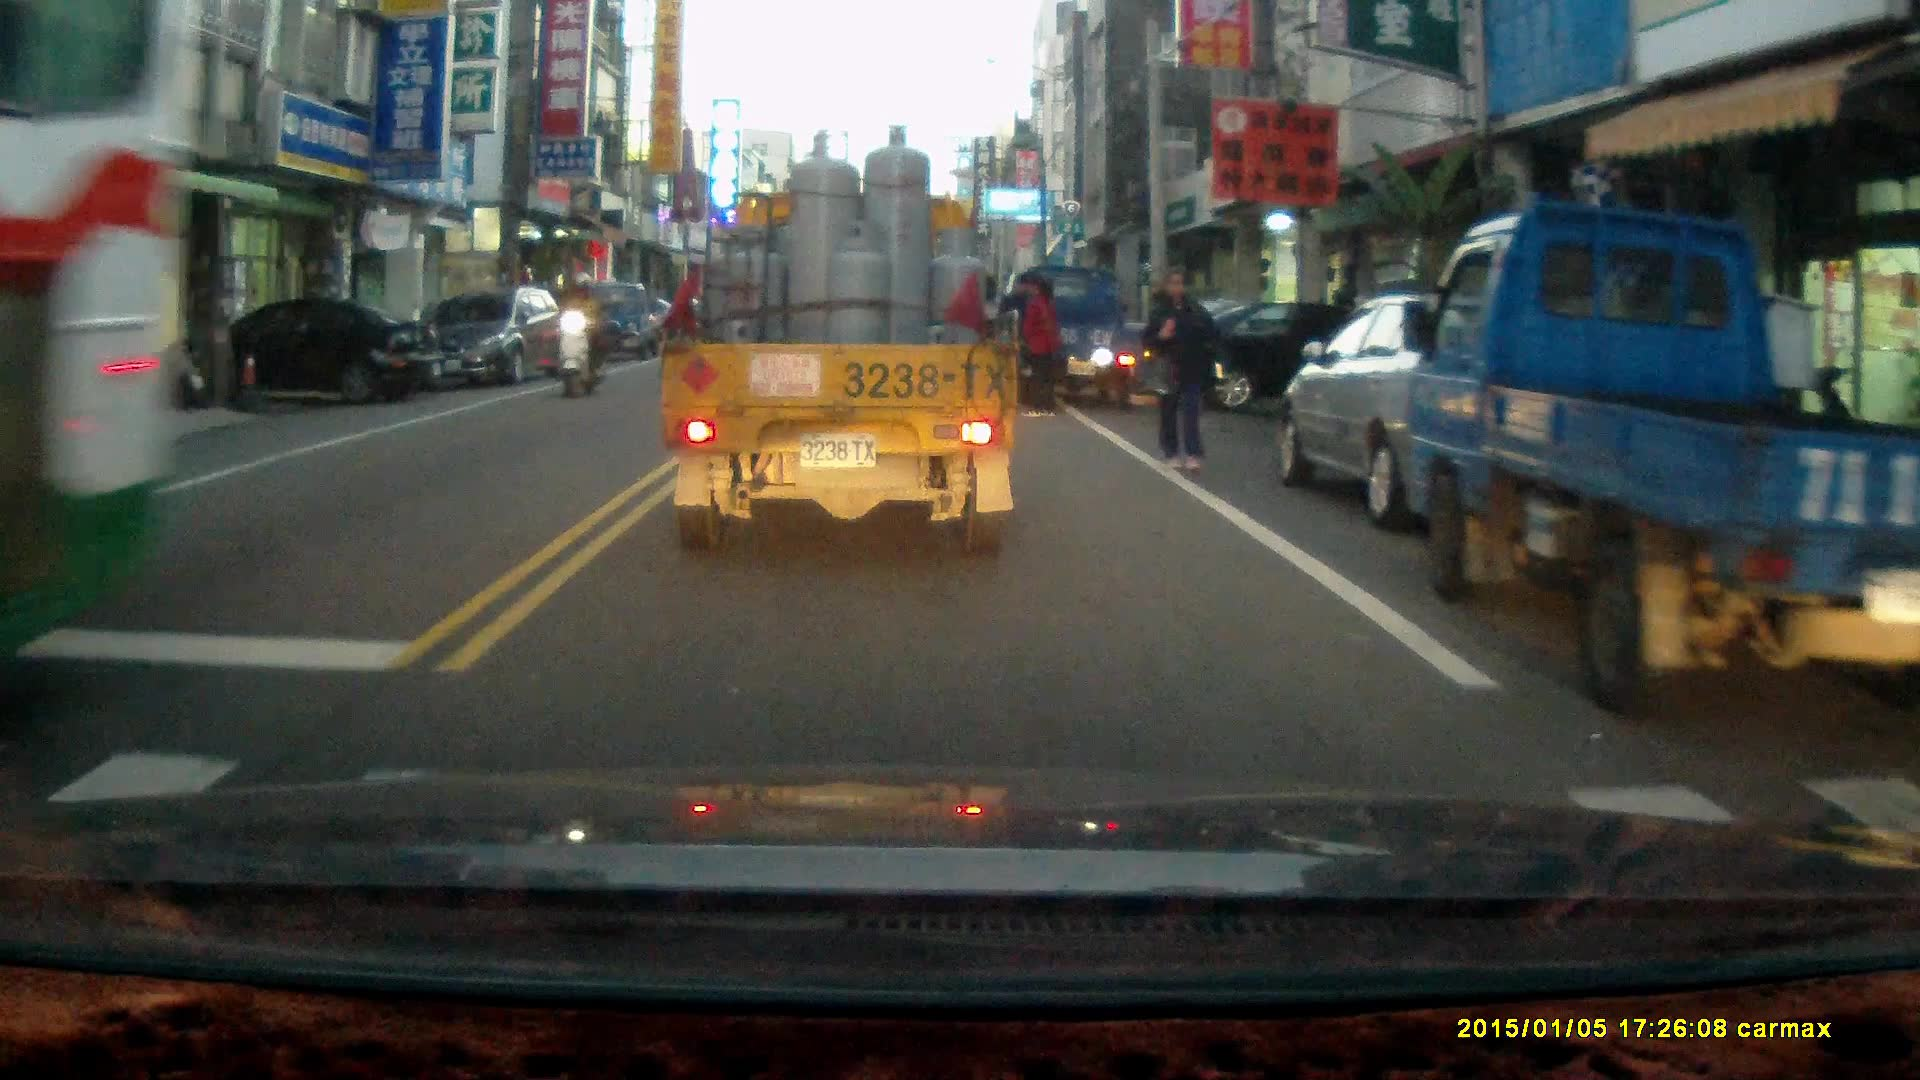pedestrian: (1140, 265, 1234, 471), (1020, 274, 1058, 411)
rider: (549, 266, 606, 396)
vehicle: (1400, 198, 1920, 721), (663, 123, 1022, 560), (1, 2, 190, 652), (1274, 287, 1604, 537), (1160, 295, 1435, 423), (1004, 261, 1151, 407), (427, 288, 570, 392), (575, 278, 675, 364)
